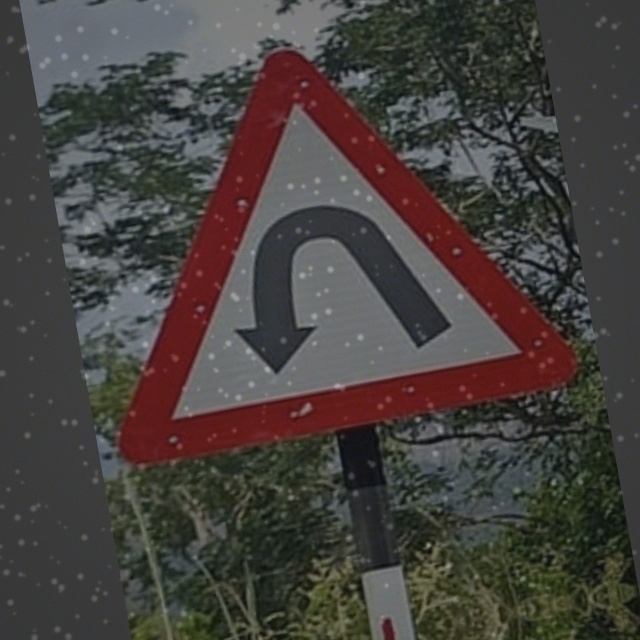Left_Hair_Pin_Bend: (65, 19, 576, 467)
